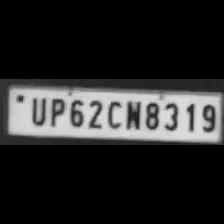1: (180, 100, 198, 132)
2: (85, 97, 103, 129)
3: (160, 99, 180, 131)
6: (65, 96, 84, 128)
8: (142, 99, 160, 131)
9: (198, 101, 218, 133)
C: (104, 98, 122, 130)
N: (122, 98, 142, 130)
P: (46, 96, 64, 127)
U: (27, 94, 47, 125)
